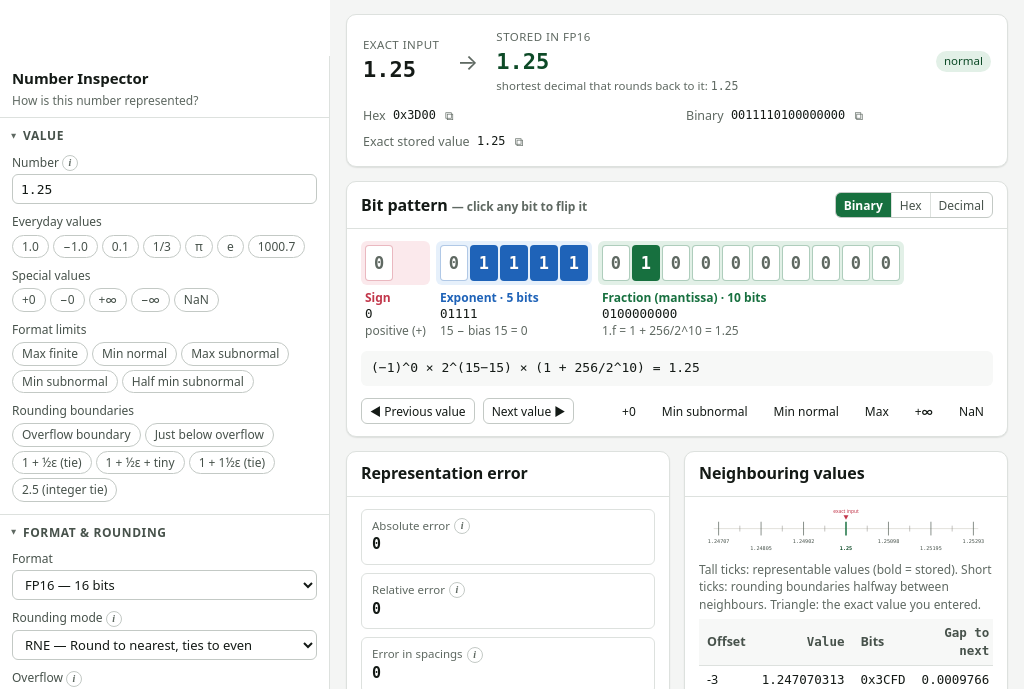
Test: Number Inspector bit editing (regression) › an edited NaN payload persists (the text field sync does not clear it)
Click the button with test id "bit-1" at {"x": 454, "y": 263}, box x1=440 y1=245 x2=468 y2=281
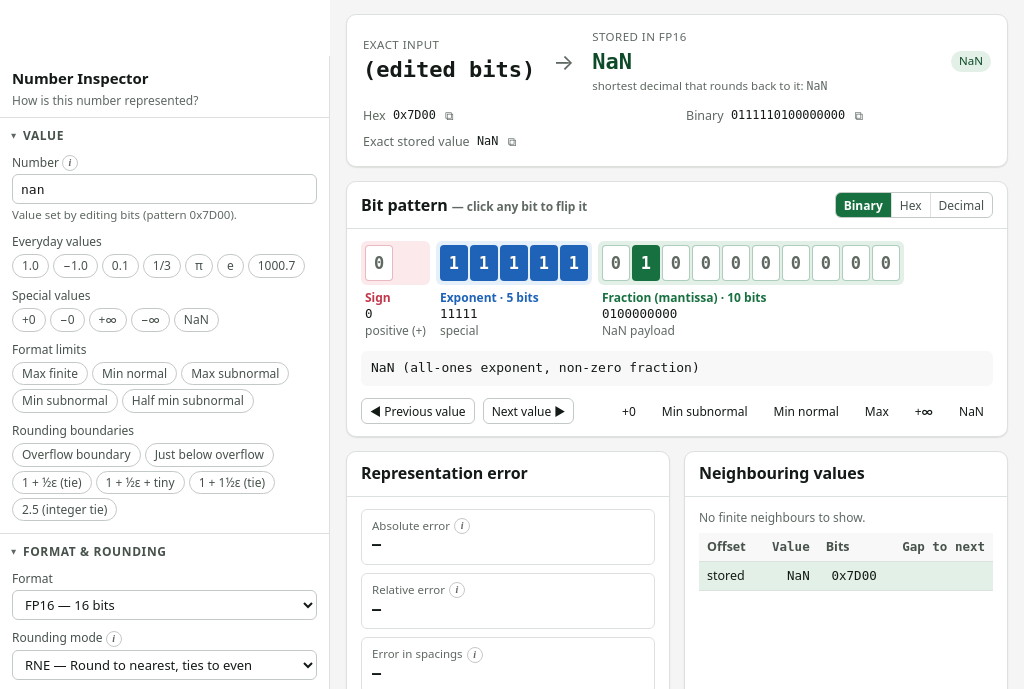
Result: the text with test id "inspector-hex" reads "0x7D00" at x1=393 y1=108 x2=436 y2=122
